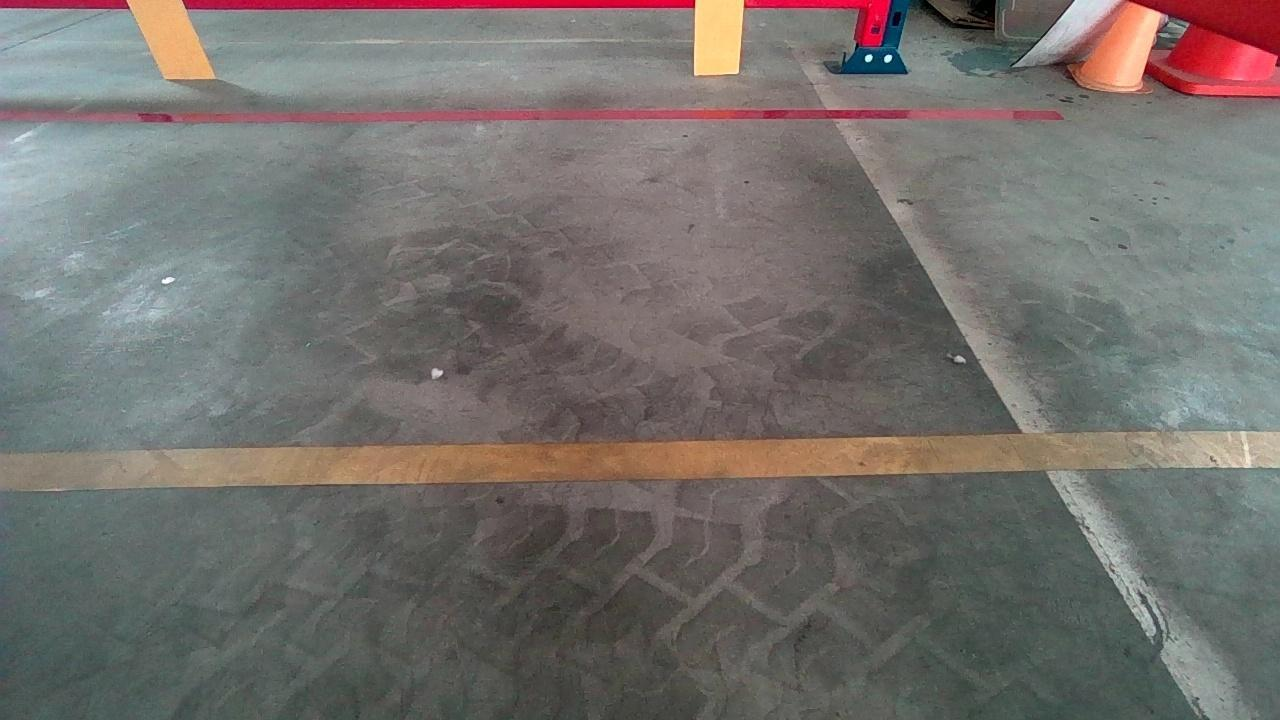orange_strip: (124, 0, 214, 77), (693, 0, 744, 73)
red_line: (0, 109, 1061, 123)
yellow_line: (0, 426, 1280, 494)
